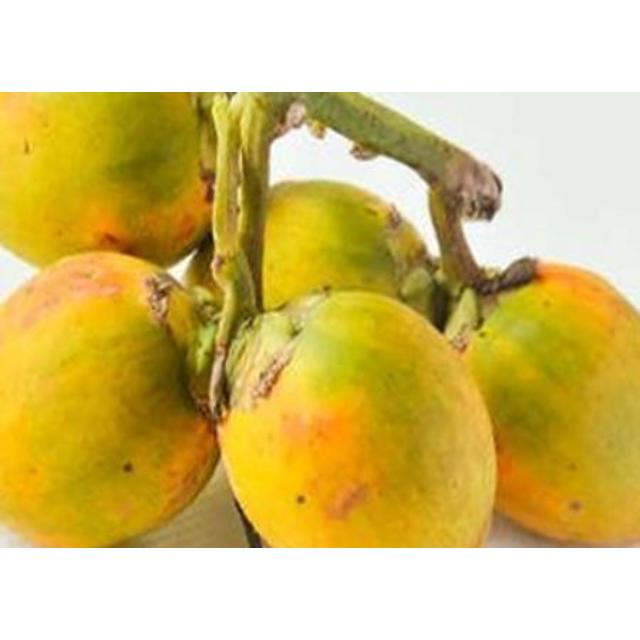good: (215, 287, 498, 547), (0, 251, 220, 547), (462, 260, 639, 547), (0, 92, 213, 270)
